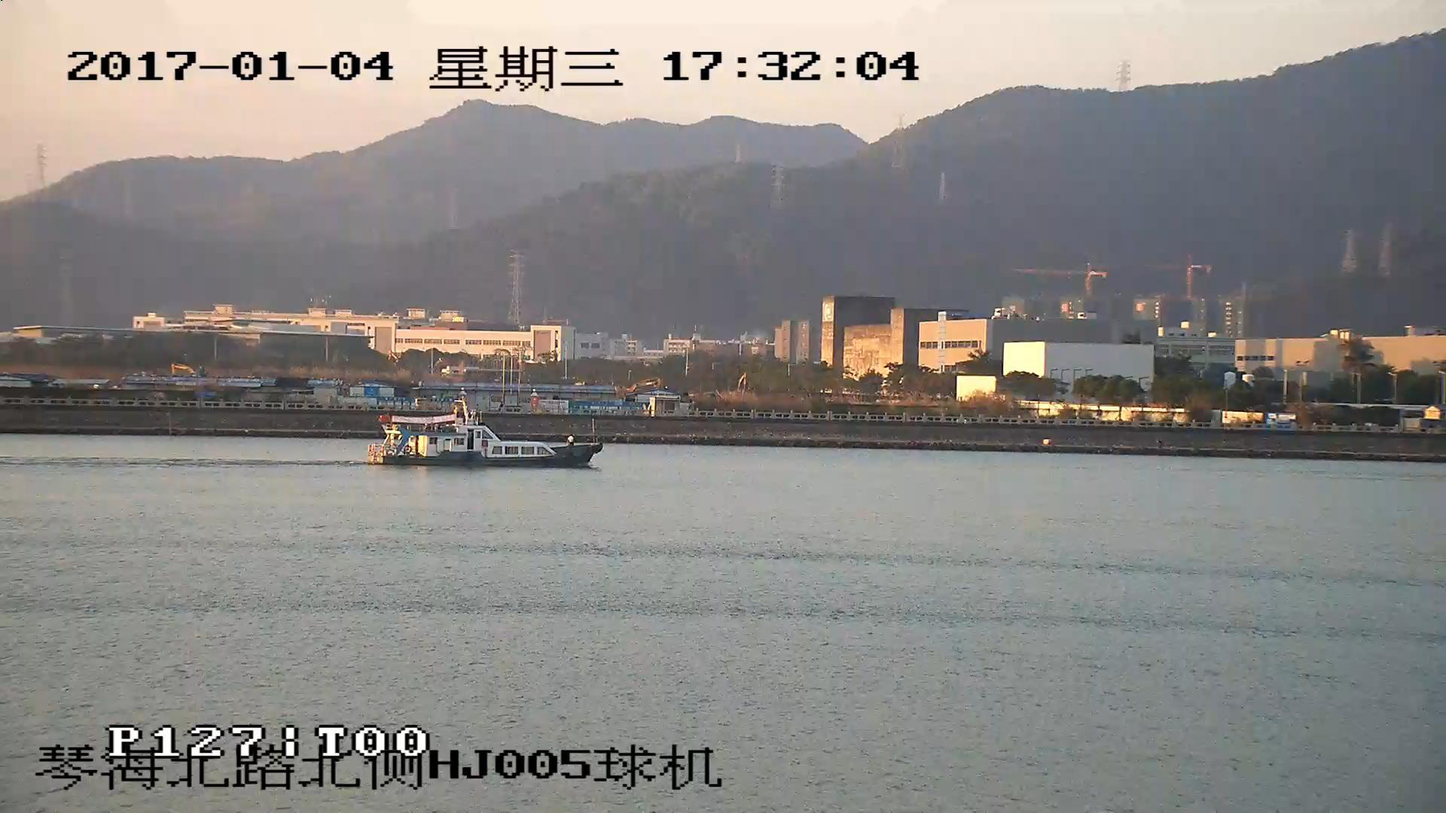fishing boat: (369, 407, 600, 468)
